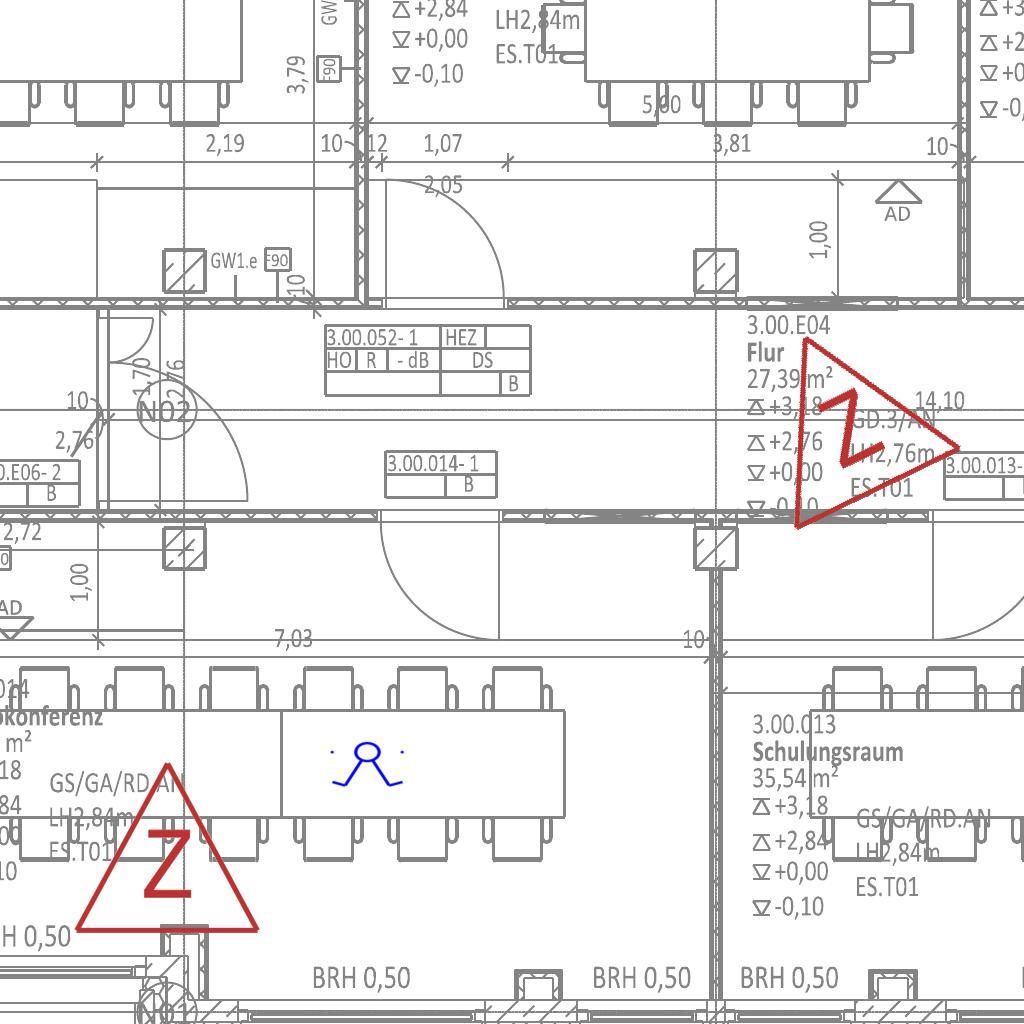Serienschalter: (326, 741, 410, 789)
Zimmersignalleuchte: (708, 282, 972, 548), (67, 748, 263, 948)
